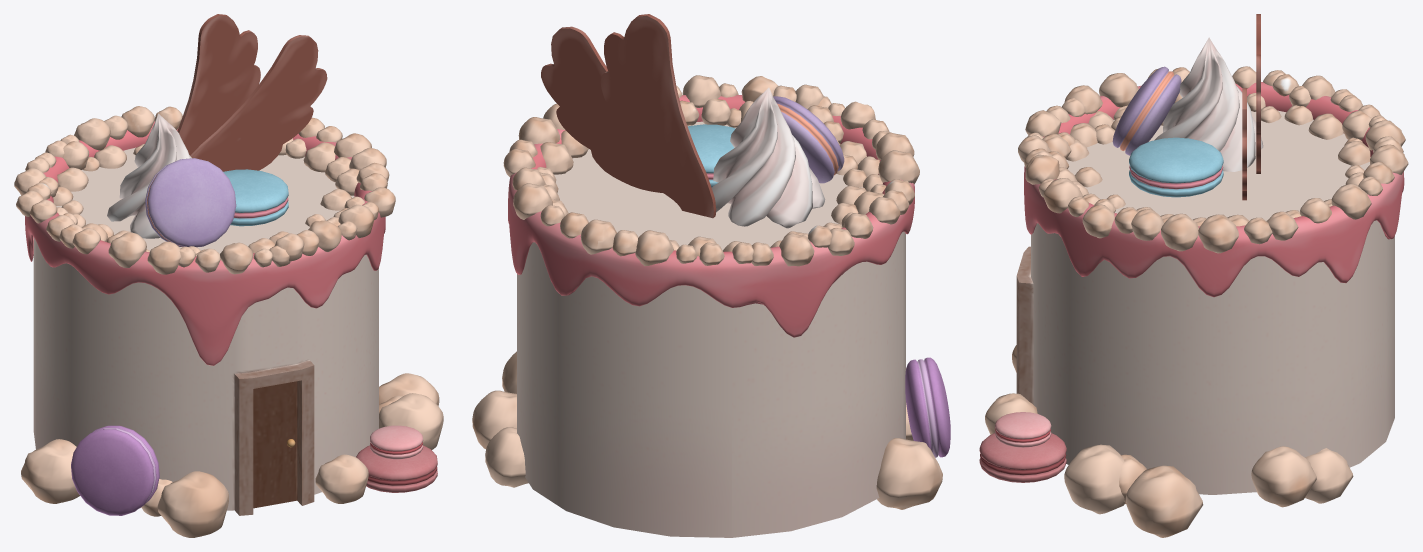
Rendered from Special_Cake_House.fbx.
The picture shows the model from 3 angles, left to right: view 1: azimuth 30°, elevation 25°; view 2: azimuth 150°, elevation 25°; view 3: azimuth 270°, elevation 25°; orthographic projection. The views are drawn at different scales.
Visible parts, largest first — view 1: Cake_House; view 2: Cake_House; view 3: Cake_House.
Part boxes in pixels (bbox=[...]): Cake_House: bbox=[14, 14, 443, 537]; Cake_House: bbox=[472, 14, 950, 537]; Cake_House: bbox=[979, 14, 1408, 537].
Bounding box in the file's own units: 13.9 × 14.2 × 12.34.
